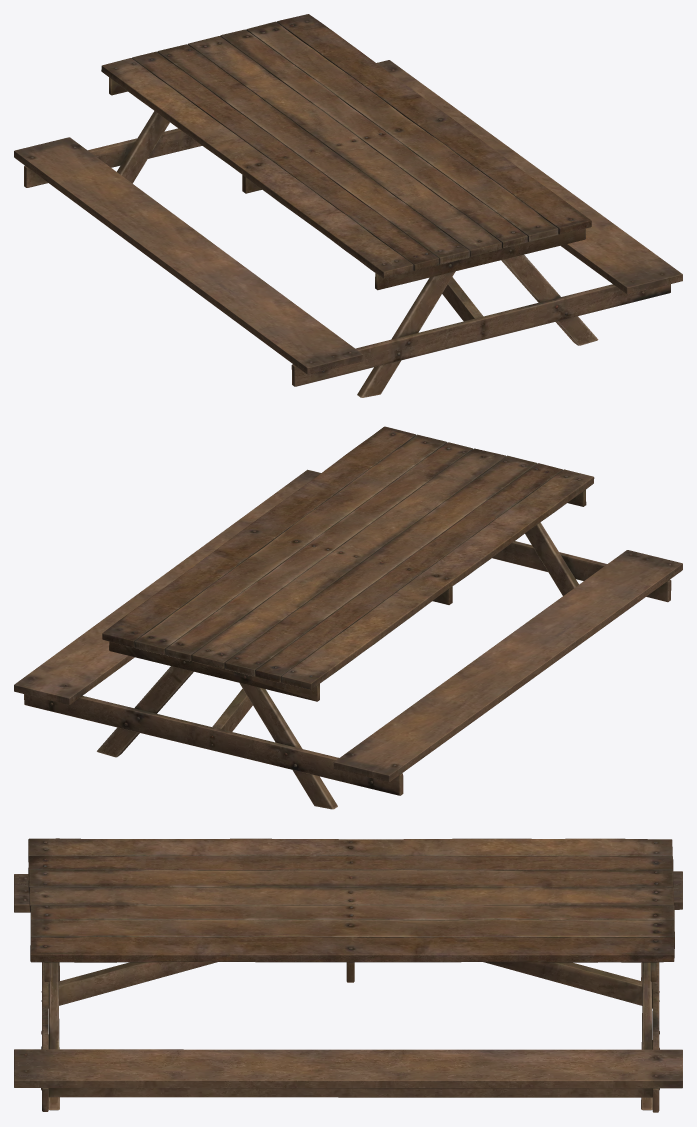
File: wooden_picnic_table.glb
The picture shows the model from 3 angles, top to bottom: view 1: azimuth 30°, elevation 25°; view 2: azimuth 150°, elevation 25°; view 3: azimuth 270°, elevation 25°; orthographic projection. The views are drawn at different scales.
Parts seen in each view (by area): view 1: wooden_picnic_table; view 2: wooden_picnic_table; view 3: wooden_picnic_table.
Boxes of the visible parts, left/top/right/bottom form: wooden_picnic_table: left=14, top=14, right=682, bottom=397; wooden_picnic_table: left=14, top=426, right=682, bottom=809; wooden_picnic_table: left=14, top=838, right=682, bottom=1112.
Bounding box in the file's own units: 2.24 × 0.746 × 3.02.
2 materials, 2 textured.
